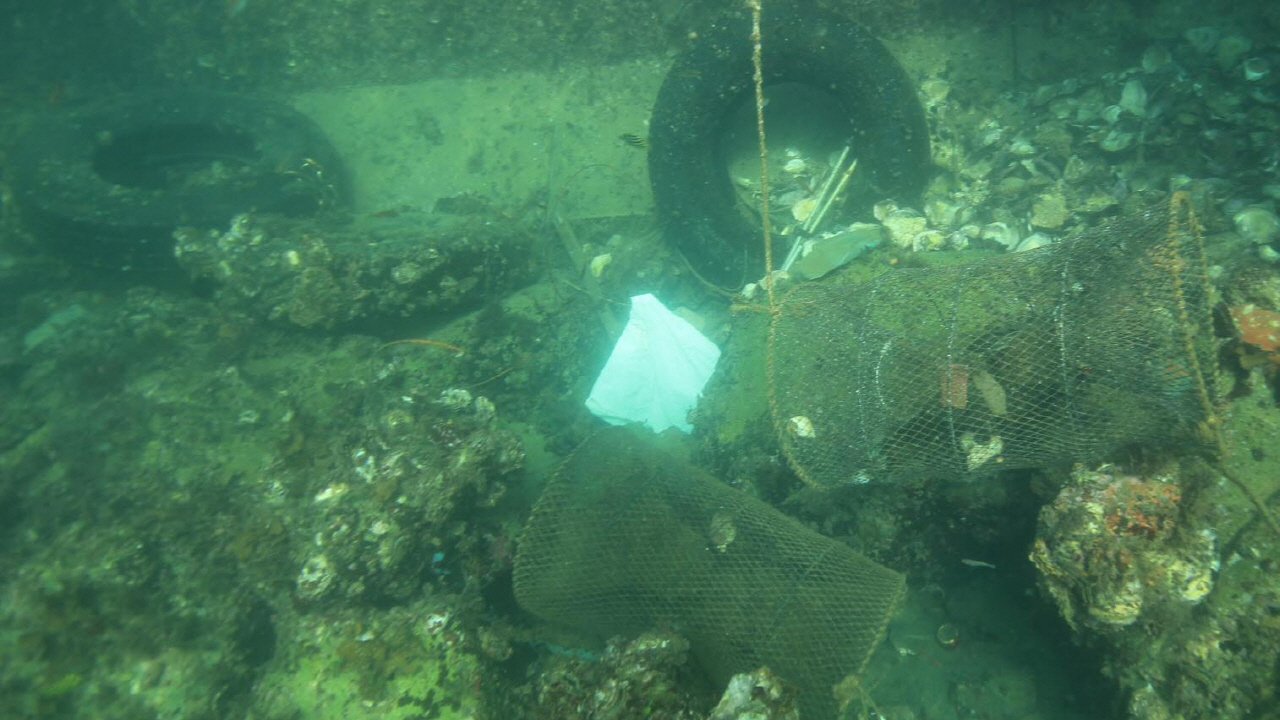bundle of ropes: (729, 0, 780, 315)
spring fish trap: (764, 192, 1223, 495), (509, 424, 907, 717)
tire: (647, 8, 933, 293), (20, 83, 345, 286)
